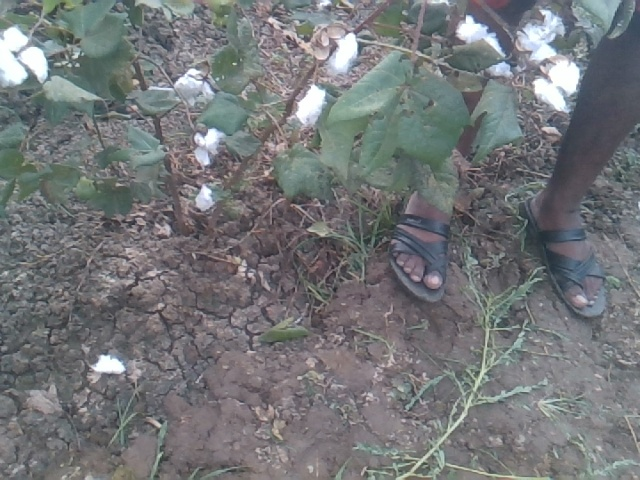cotton: (2, 27, 50, 89), (513, 6, 570, 51), (536, 57, 576, 114), (291, 80, 326, 131), (174, 67, 219, 104), (189, 129, 224, 168), (330, 34, 364, 74), (487, 39, 515, 75), (196, 182, 218, 214), (457, 21, 488, 42)
